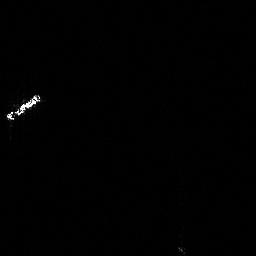ship: (4, 90, 44, 122)
